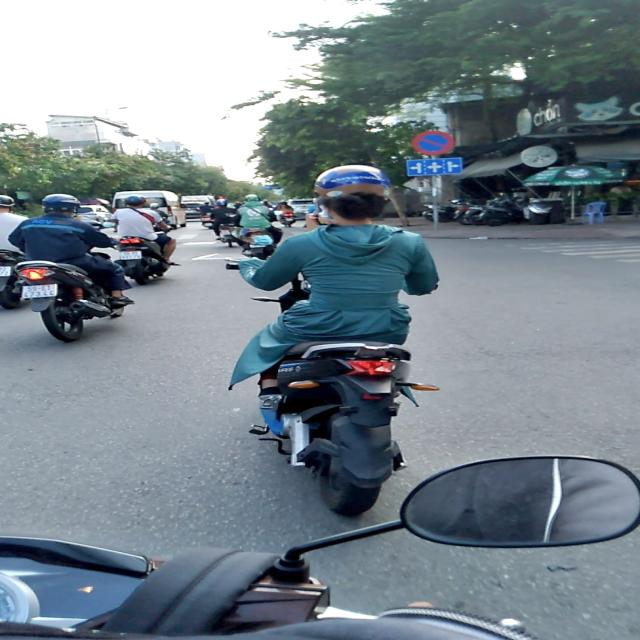Cam do: (412, 131, 454, 155)
